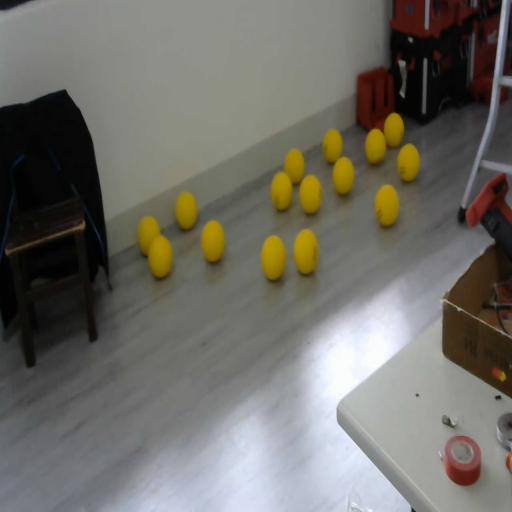FUEL: (260, 234, 287, 282), (147, 232, 173, 280), (292, 227, 318, 275), (200, 218, 226, 264), (374, 184, 399, 228), (332, 156, 356, 196), (396, 142, 420, 182), (299, 174, 322, 214), (270, 171, 292, 212), (283, 146, 305, 185), (364, 127, 386, 165), (175, 192, 197, 230), (383, 112, 405, 147), (323, 128, 343, 164)
